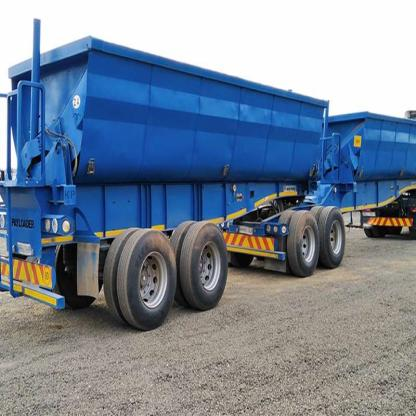dump_truck: (2, 14, 416, 333)
